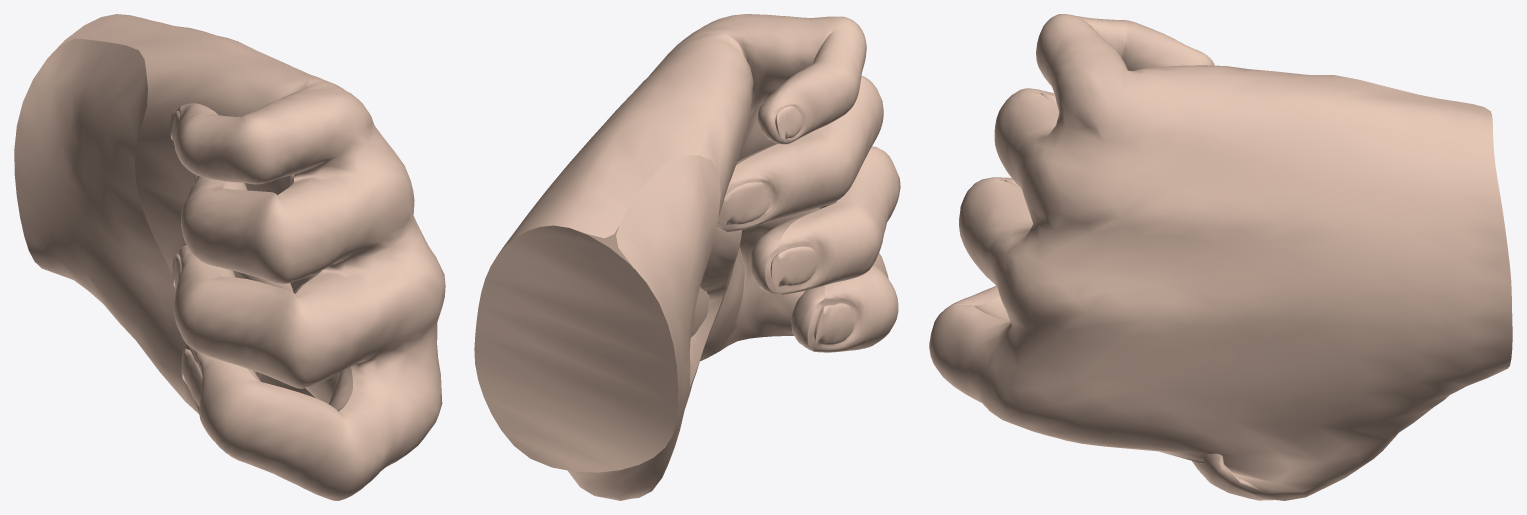
Rendered from hand-grip-r.glb.
The picture shows the model from 3 angles, left to right: view 1: azimuth 30°, elevation 25°; view 2: azimuth 150°, elevation 25°; view 3: azimuth 270°, elevation 25°; orthographic projection.
Visible parts, largest first — view 1: mesh_Hand_Nails_R; view 2: mesh_Hand_Nails_R; view 3: mesh_Hand_Nails_R.
Boxes of the visible parts, x1=… form: mesh_Hand_Nails_R: x1=14, y1=14, x2=445, y2=500; mesh_Hand_Nails_R: x1=474, y1=14, x2=900, y2=500; mesh_Hand_Nails_R: x1=929, y1=14, x2=1512, y2=500.
Bounding box in the file's own units: 0.0666 × 0.1096 × 0.1354.
